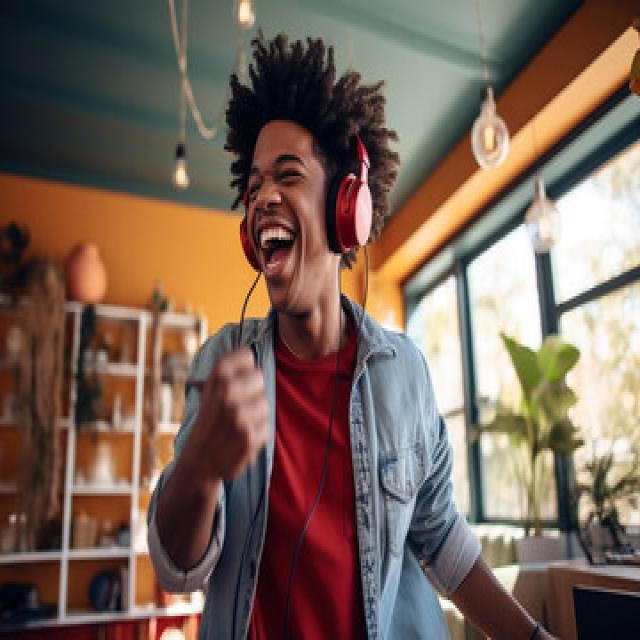Headphone: (242, 122, 374, 276)
